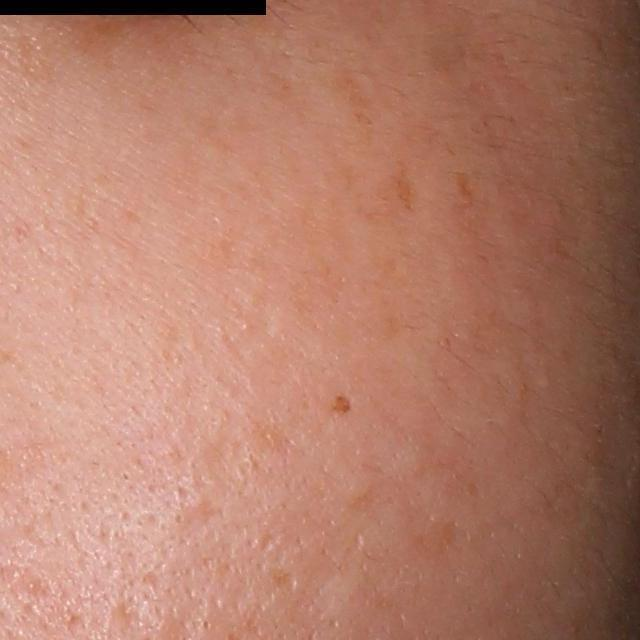melasma: (325, 64, 389, 150), (389, 151, 420, 217), (449, 170, 476, 209), (330, 393, 352, 415)
